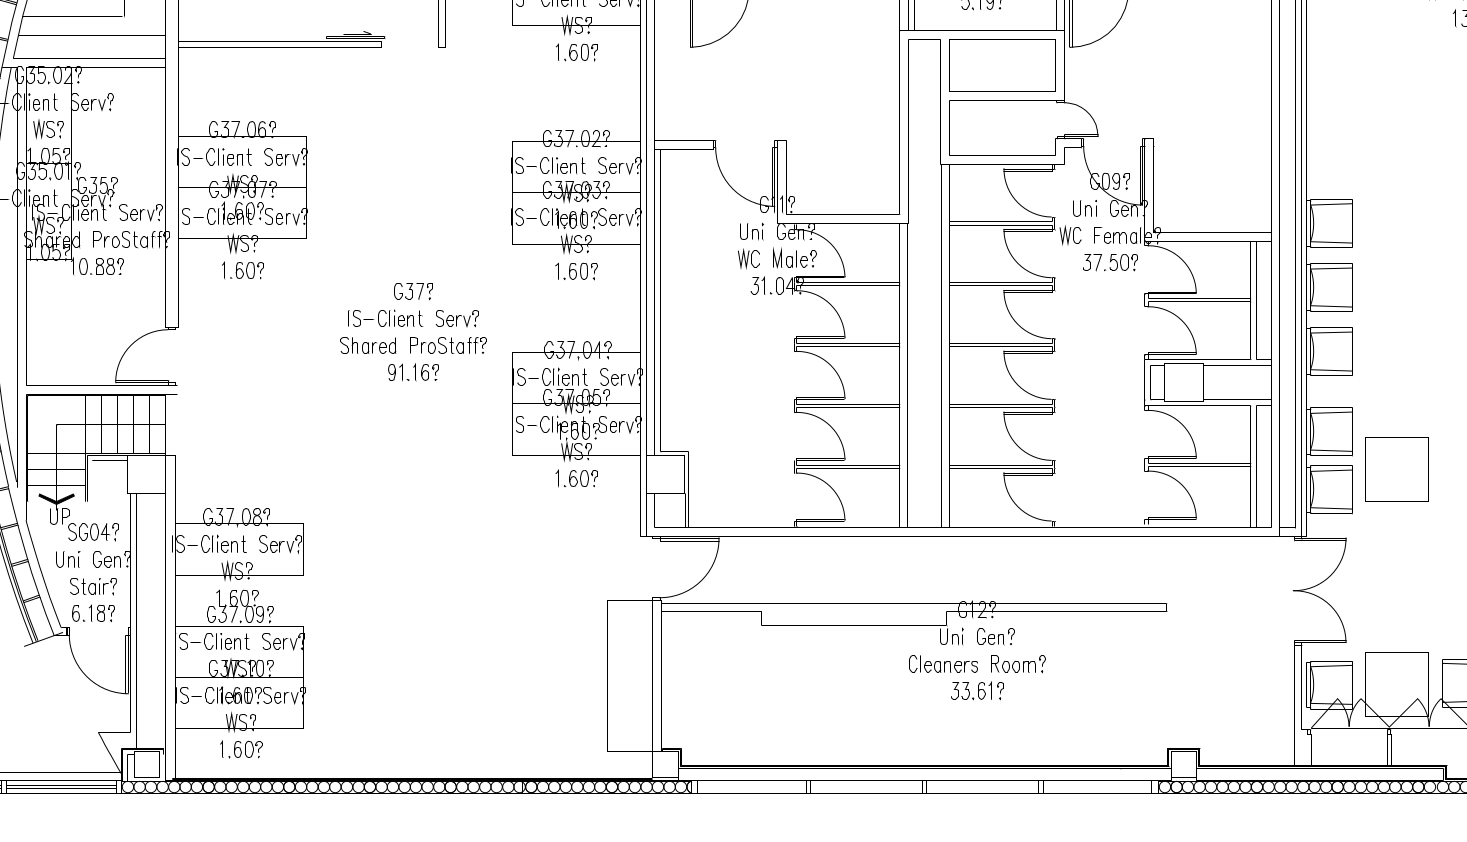door: (1291, 531, 1356, 649), (66, 620, 127, 699), (1065, 1, 1129, 66), (713, 144, 777, 210), (1082, 140, 1146, 206), (684, 1, 748, 66), (659, 537, 721, 603), (111, 328, 175, 384), (787, 409, 851, 464), (789, 289, 853, 344), (790, 230, 854, 285), (787, 471, 851, 526), (789, 349, 853, 404), (1142, 406, 1200, 461), (1142, 242, 1200, 297), (998, 226, 1056, 281), (994, 283, 1052, 338), (995, 407, 1053, 462), (1143, 467, 1201, 522), (1144, 305, 1202, 360), (997, 166, 1055, 221), (997, 347, 1055, 402), (997, 470, 1055, 525), (1063, 95, 1101, 140)
